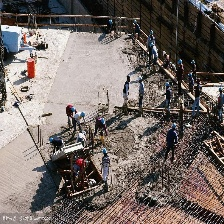person: (101, 148, 113, 191), (165, 123, 177, 161), (163, 81, 173, 118), (137, 74, 146, 115), (123, 73, 131, 113)
